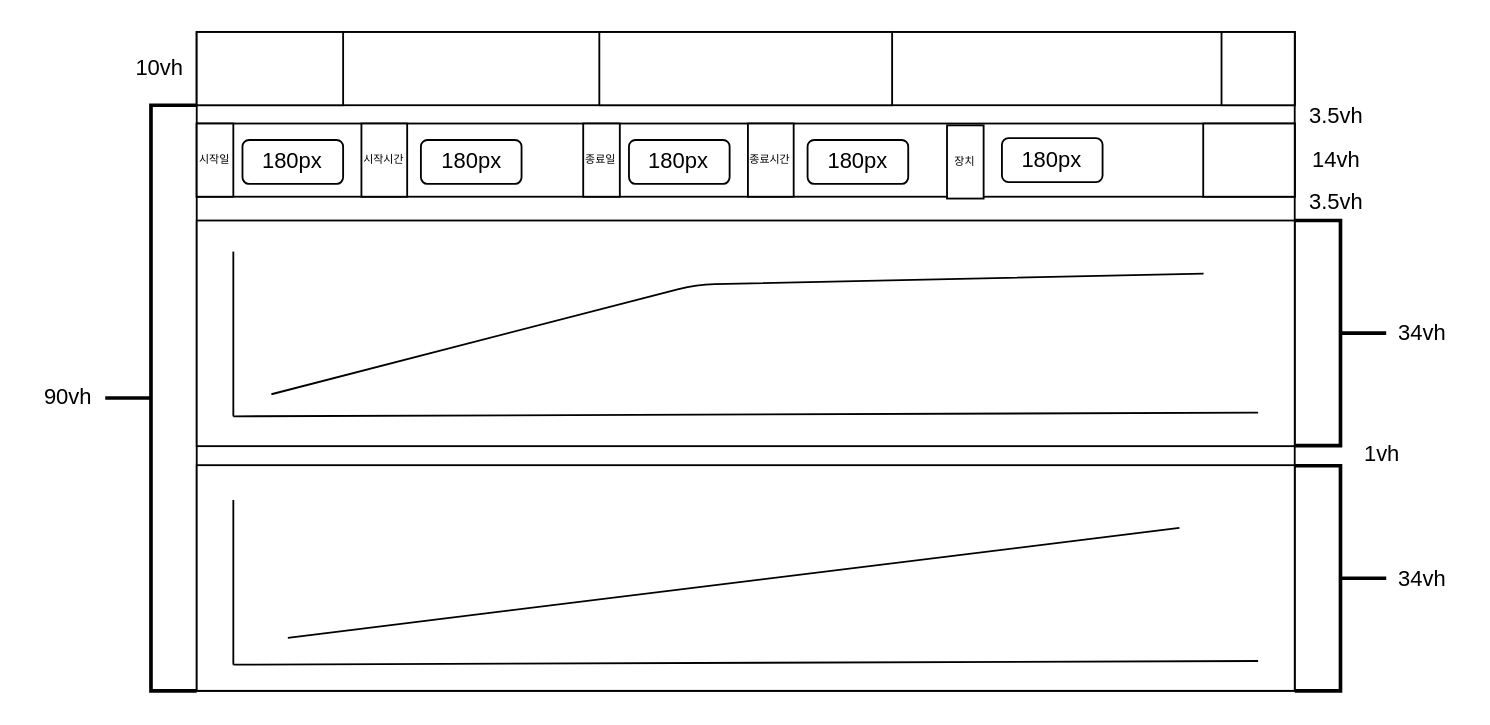
Some shapes in this 1490 by 725 pixel diagram are drawn without their labels. The centre of each missing label's shape, as x and y in pixels:
로고이미지: the point at 269,67
저장버튼: the point at 1248,159
종료 버튼: the point at 1257,67
타이틀: the point at 744,67
